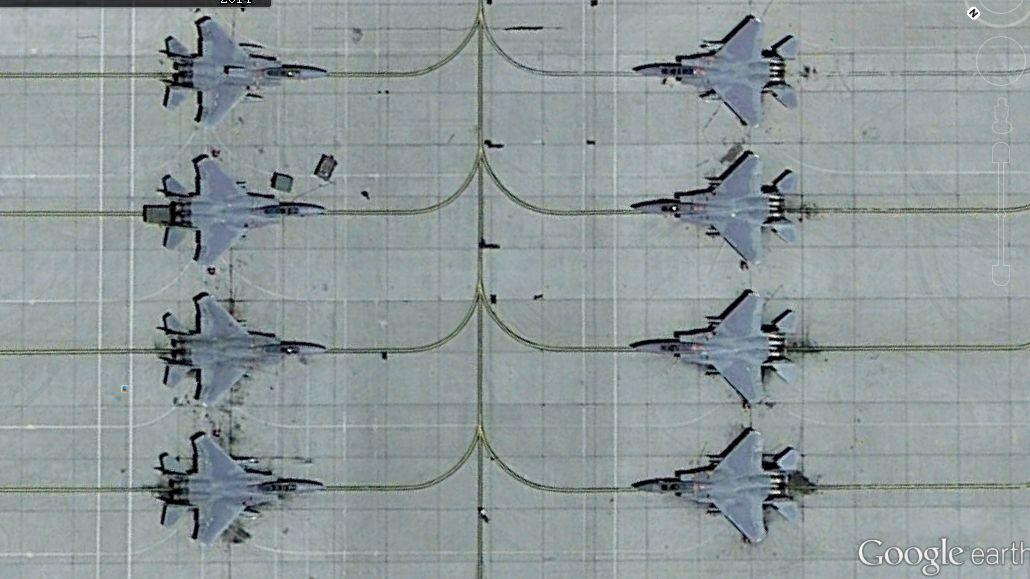F-15: (625, 9, 805, 133), (146, 426, 330, 547), (631, 142, 809, 266), (149, 293, 333, 412), (627, 291, 810, 409), (149, 153, 329, 268), (630, 428, 809, 542), (155, 16, 331, 129)
